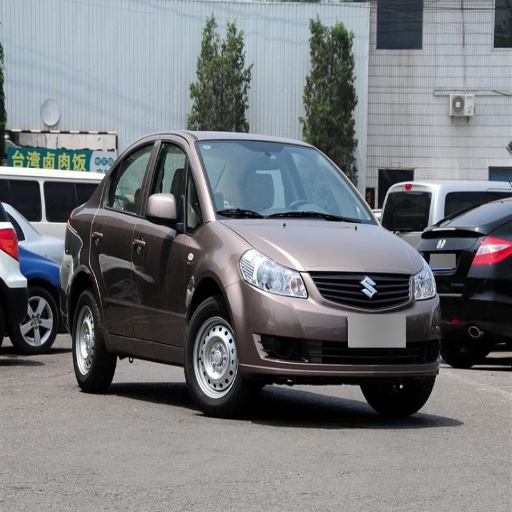front_bumper: (232, 271, 442, 382)
front_right_door: (133, 137, 199, 350)
front_right_light: (240, 249, 307, 298)
